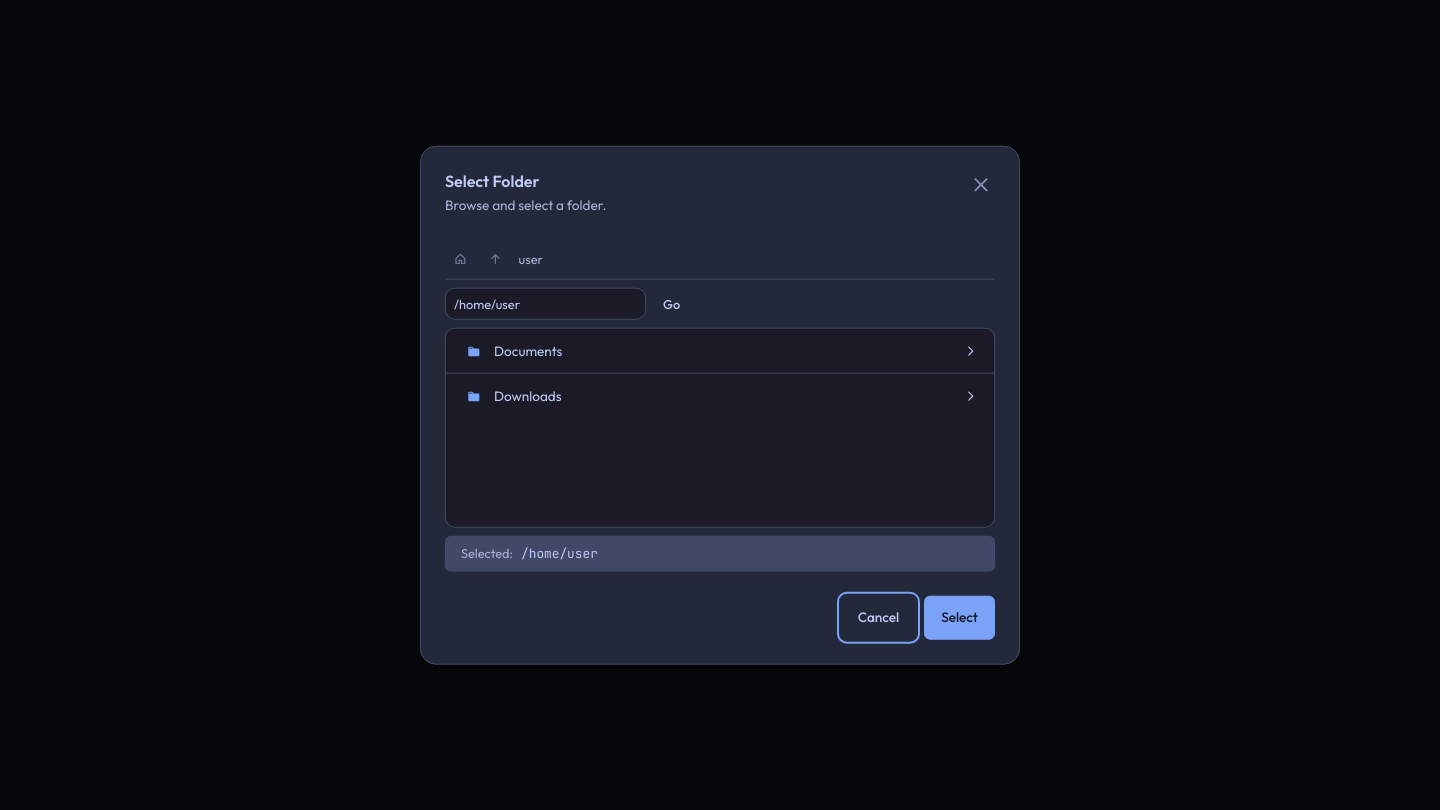
Test: FileBrowser › rejects a manual path outside the configured root
Expected: the text "Documents" is shown, [494,342,562,360]
Step 1. Replace the text in the field with placeholder "Enter path manually..." with "/opt" → (546, 304), box [446,290,645,318]
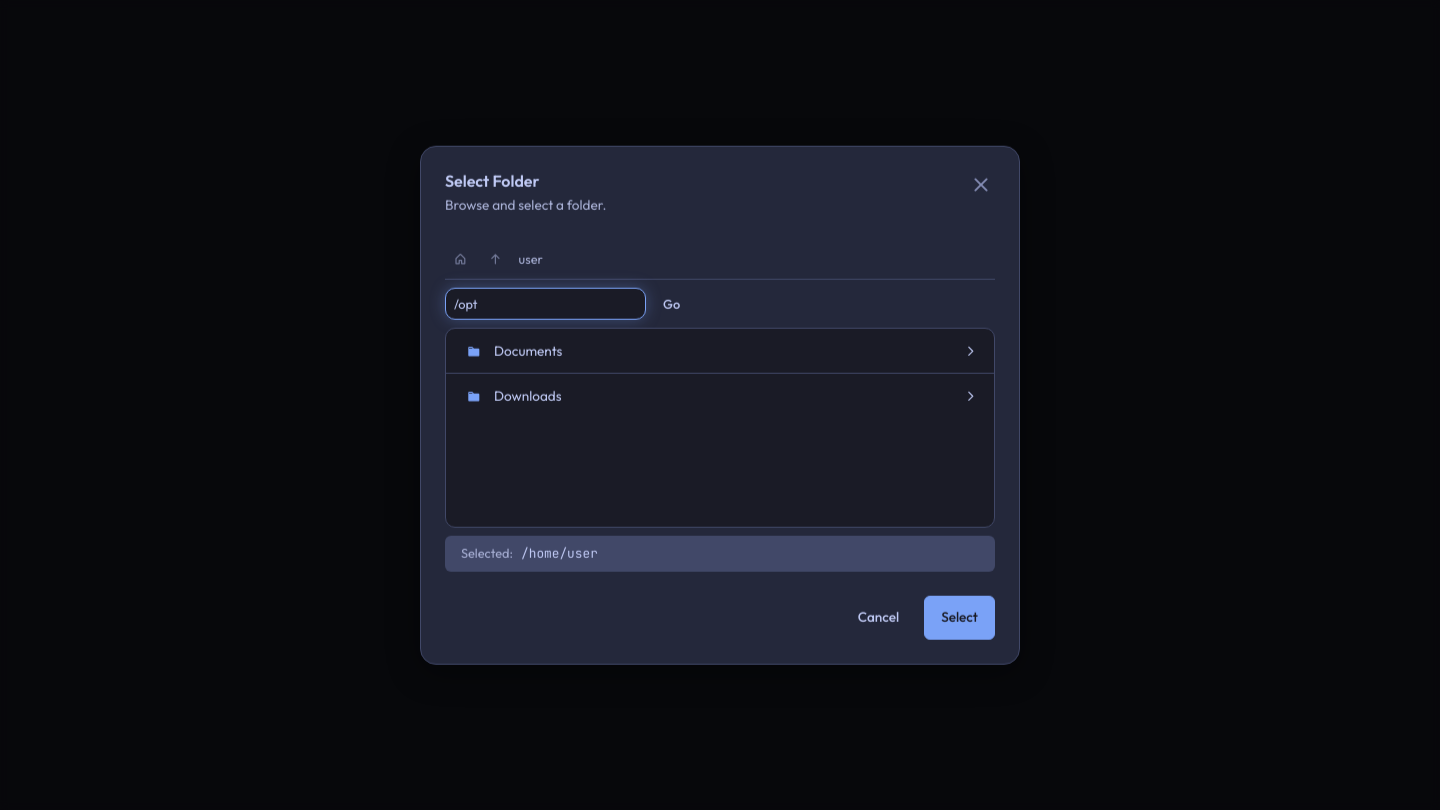
Step 2. Click the button "Go" → (672, 304), box [654,288,689,320]
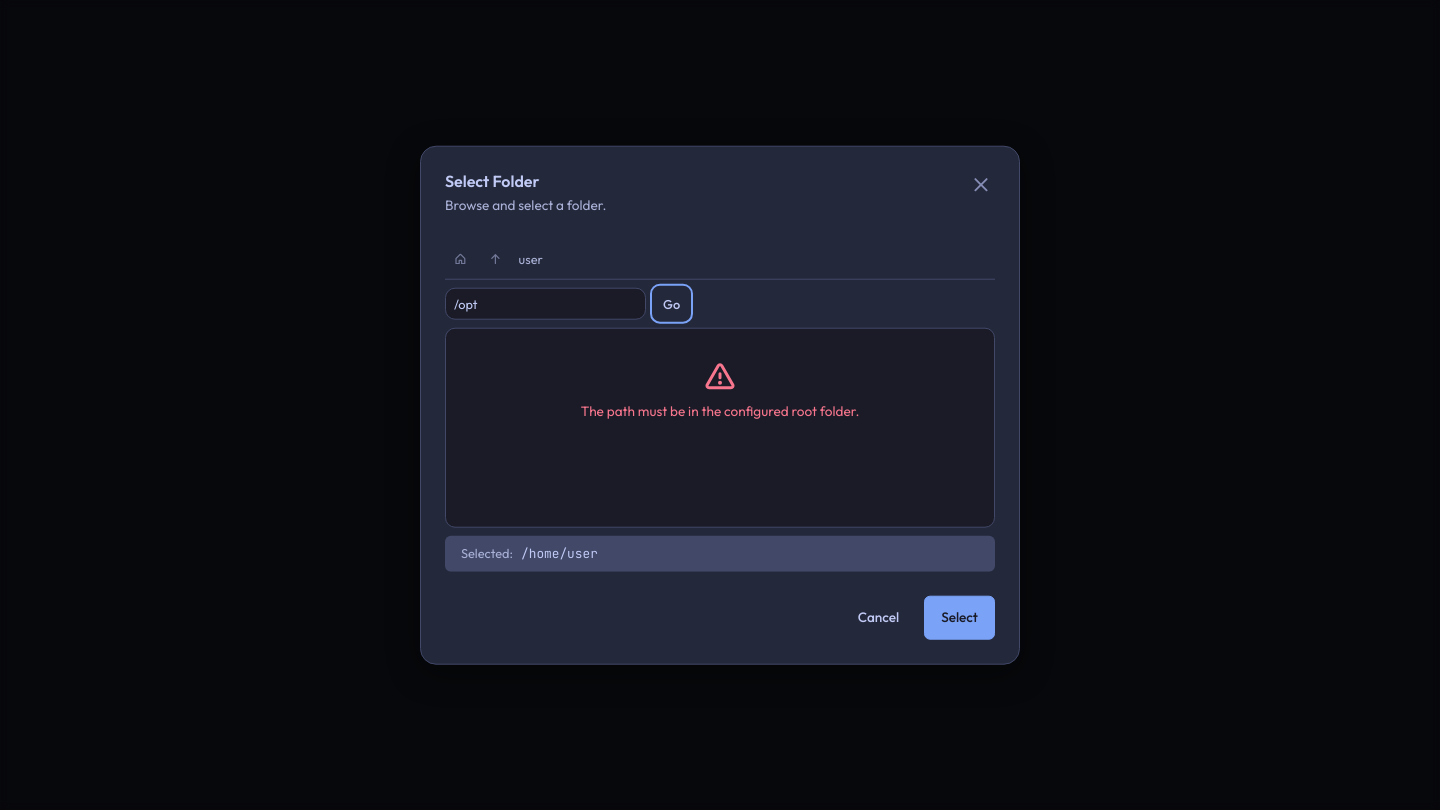
Expected: the text "The path must be in the configured root folder." is shown, [581,401,859,422]
